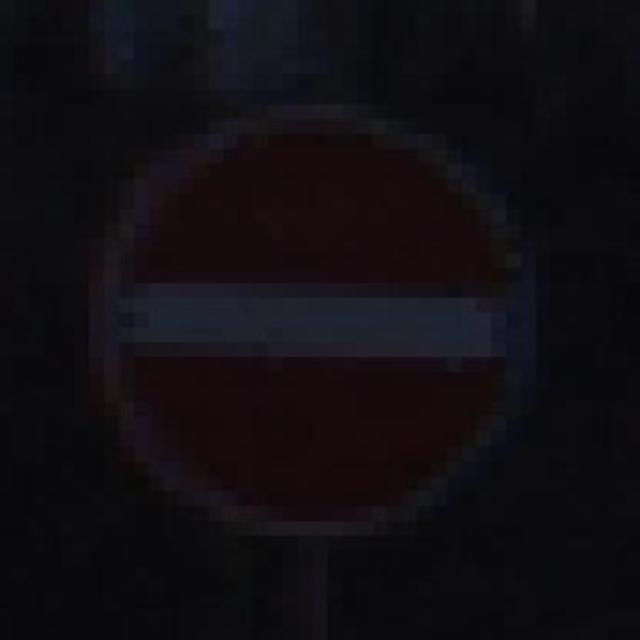No Entry: (45, 59, 580, 581)
